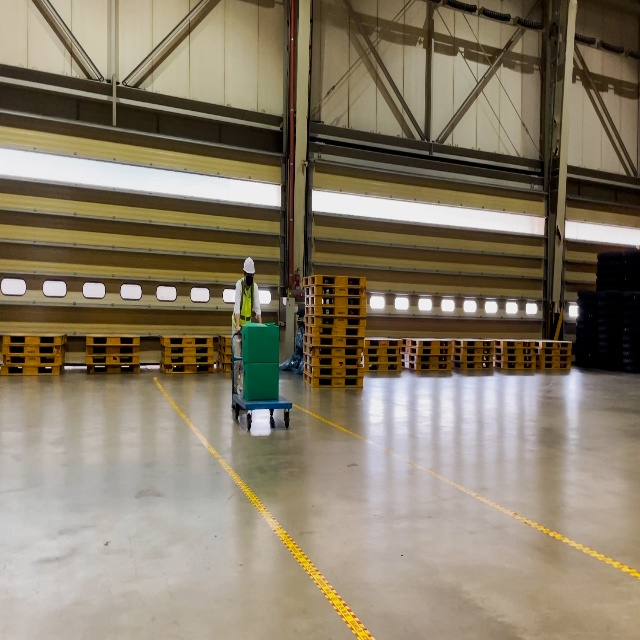Box: (242, 322, 280, 362), (243, 363, 279, 400)
Worker: (231, 255, 262, 410)
